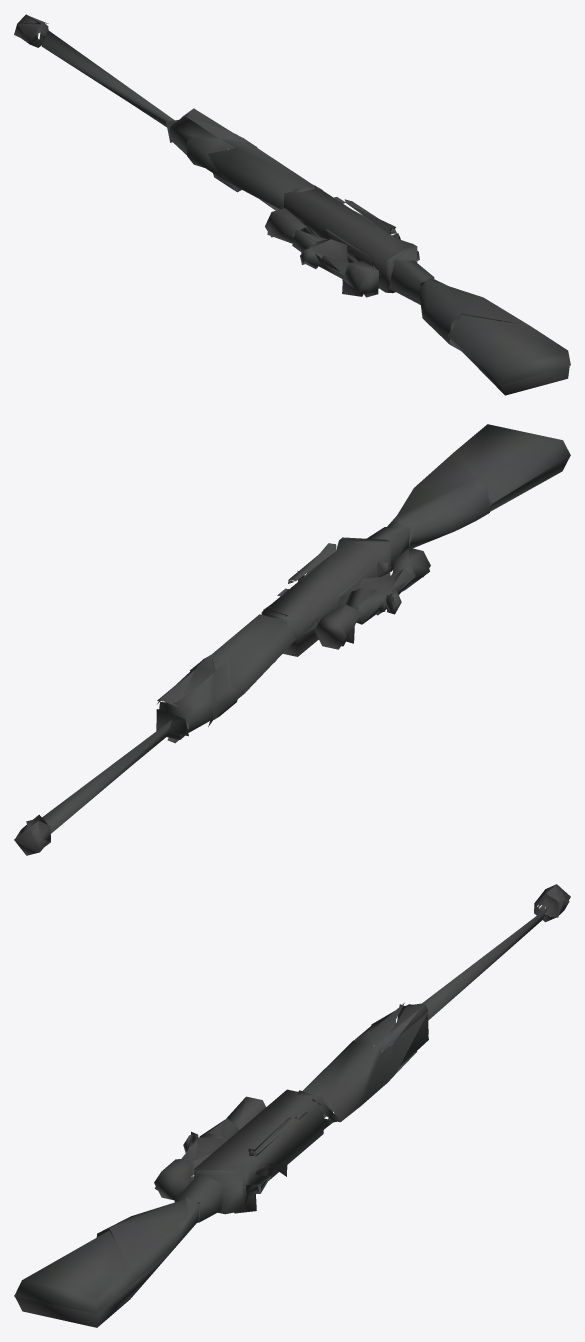
File: m_long_bow_clan_lod1.fbx
3 renders of one model, top to bottom at view 1: azimuth 30°, elevation 25°; view 2: azimuth 150°, elevation 25°; view 3: azimuth 330°, elevation 25°, orthographic. The views are drawn at different scales.
Visible parts, largest first — view 1: tripo_node_cf97017f-7bdc-4339-918a-3ce82c627e94; view 2: tripo_node_cf97017f-7bdc-4339-918a-3ce82c627e94; view 3: tripo_node_cf97017f-7bdc-4339-918a-3ce82c627e94.
Boxes of the visible parts, box(x1,y1,x2,y2) form: tripo_node_cf97017f-7bdc-4339-918a-3ce82c627e94: box(14, 14, 570, 395); tripo_node_cf97017f-7bdc-4339-918a-3ce82c627e94: box(14, 424, 570, 855); tripo_node_cf97017f-7bdc-4339-918a-3ce82c627e94: box(14, 884, 570, 1327).
Bounding box in the file's own units: 0.1339 × 0.0931 × 1.18.
